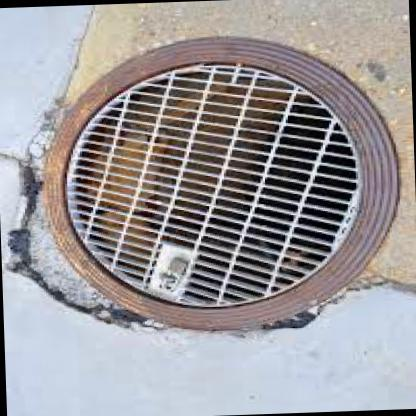manholes: (6, 12, 416, 369)
